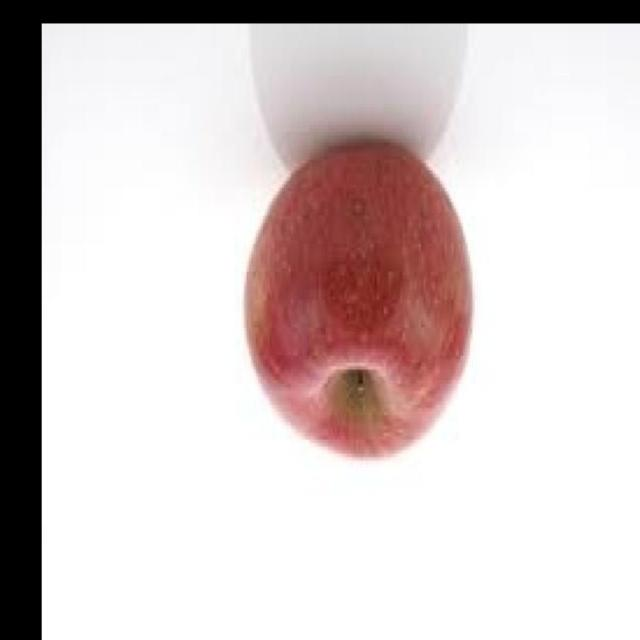red apple: (245, 137, 477, 462)
